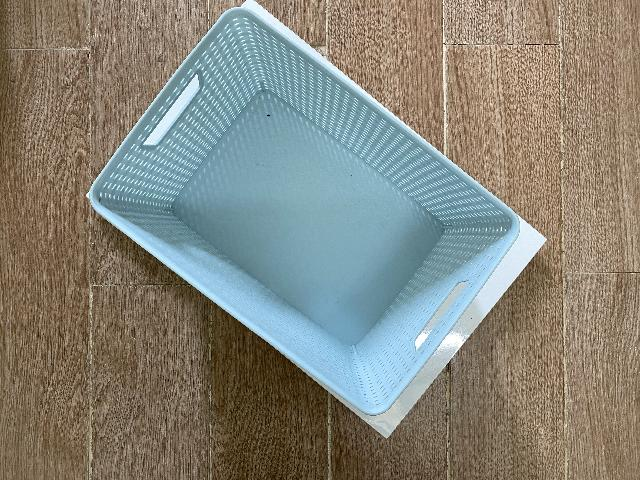cart: (87, 8, 521, 416)
